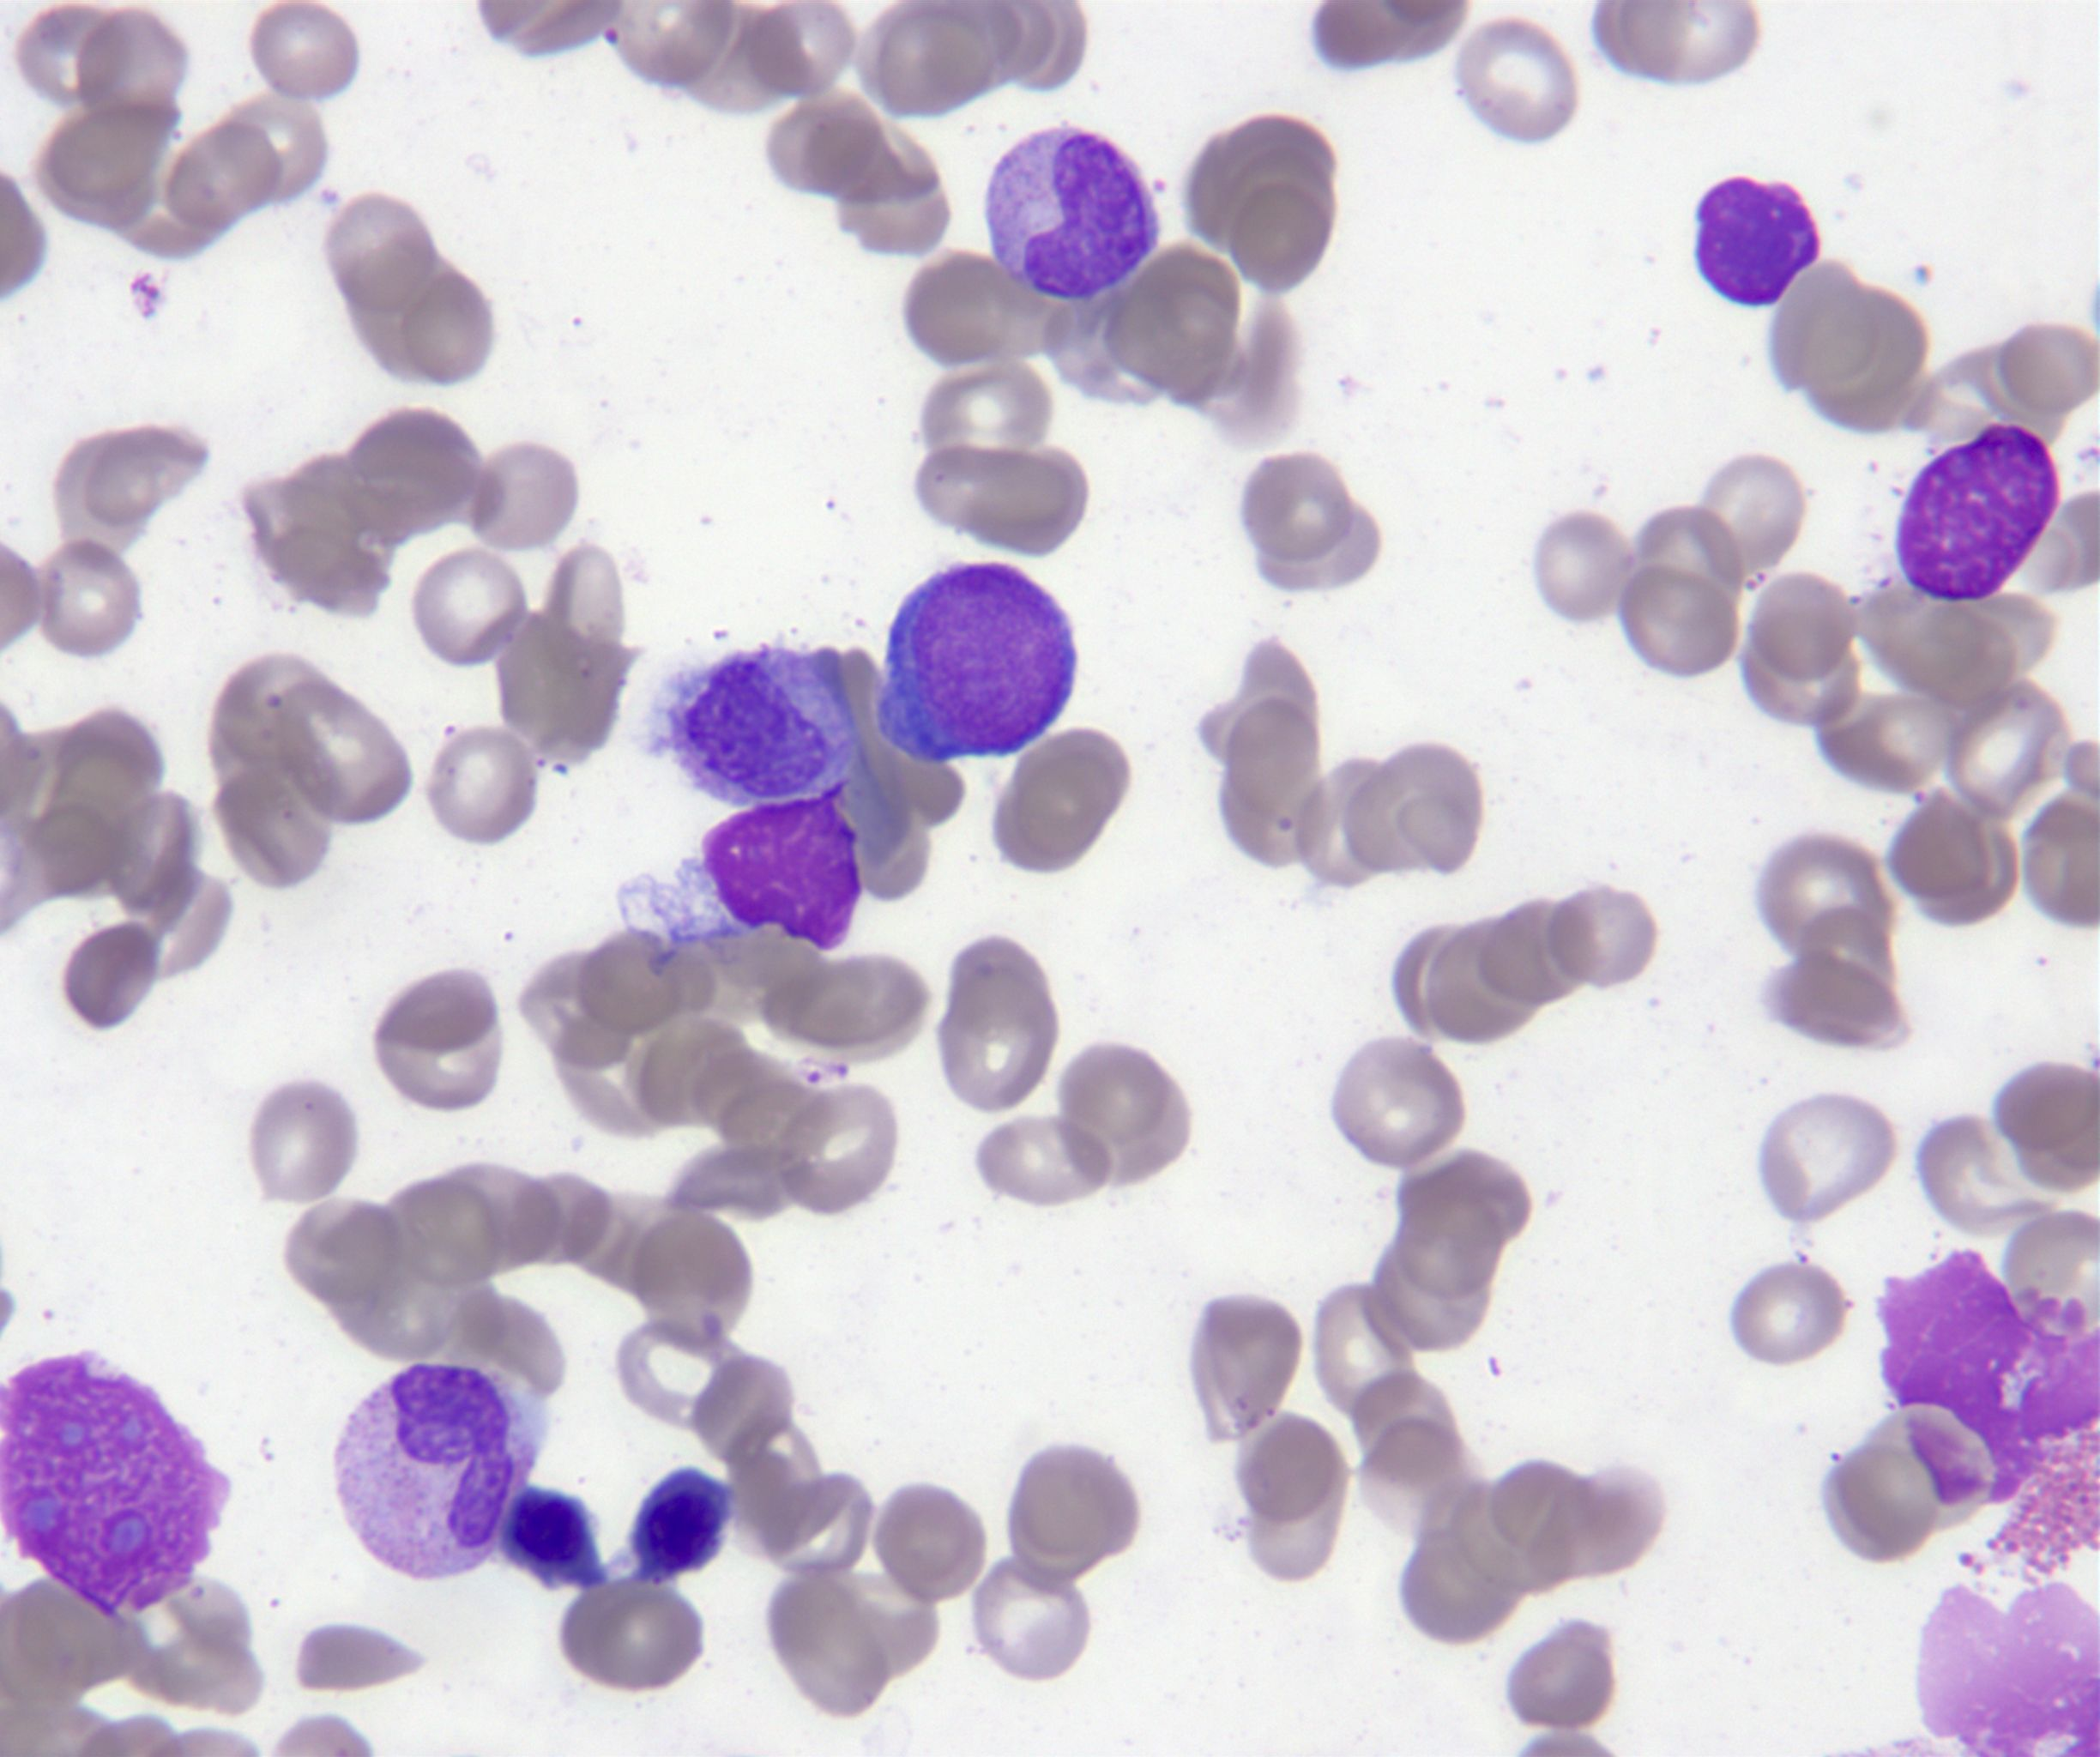22: (876, 565, 1078, 766)
24: (628, 1467, 734, 1583), (501, 1485, 607, 1591)
3: (649, 646, 856, 804)
4: (987, 122, 1156, 297)
6: (333, 1366, 537, 1581)
x: (1880, 1248, 2100, 1576), (2, 1352, 228, 1617), (1915, 1588, 2100, 1757), (1899, 422, 2060, 604), (699, 799, 860, 953), (1697, 180, 1817, 307)
